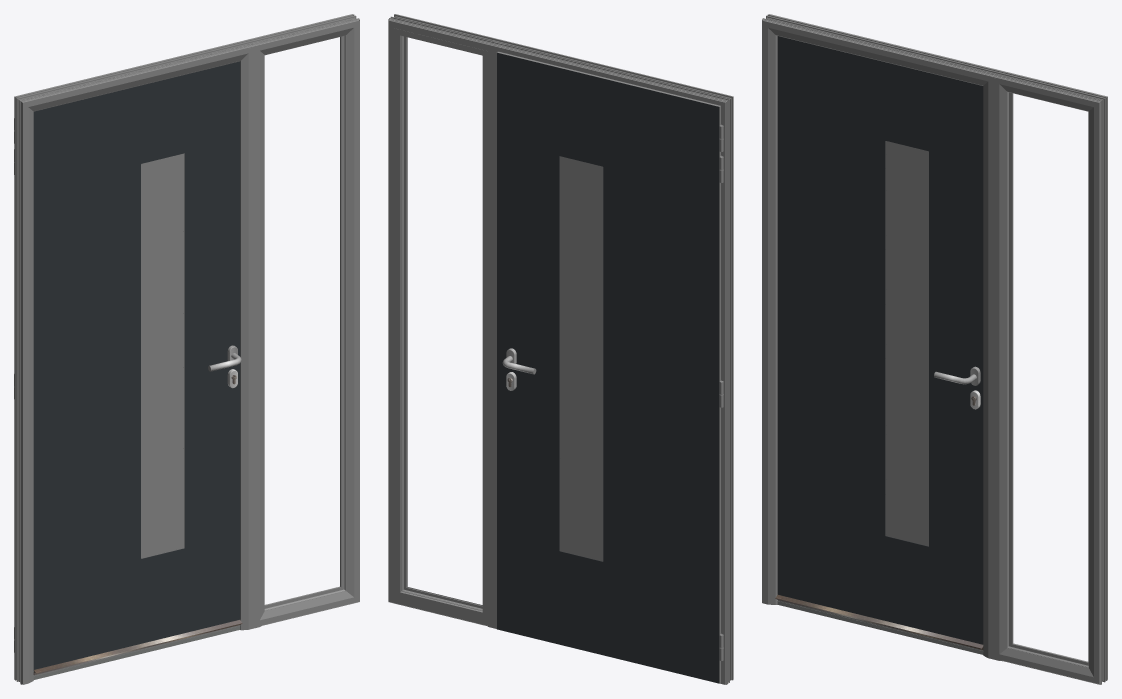
3 renders of one model, left to right at view 1: azimuth 30°, elevation 25°; view 2: azimuth 150°, elevation 25°; view 3: azimuth 330°, elevation 25°, orthographic.
Visible parts, largest first — view 1: bloco_112, Rectangle002, Vidro Porta, Line004, Object, Object001, Line005, Rectangle005, Rectangle003; view 2: bloco_112, Vidro Porta, Rectangle002, Rectangle003, Line004, Object001, Rectangle004, Object; view 3: bloco_112, Rectangle002, Vidro Porta, Line004, Object001, Object, Line005, Rectangle003, Rectangle005.
Part boxes in pixels (x1,y1,x2,y2): bloco_112: (33,61,240,671); Rectangle002: (14,14,359,684); Vidro Porta: (141,153,184,558); Line004: (240,46,264,630); Object: (33,35,346,680); Object001: (264,36,344,608); Line005: (33,620,242,674); Rectangle005: (33,625,240,679); Rectangle003: (264,37,340,605); bloco_112: (497,52,719,683); Vidro Porta: (559,156,603,561); Rectangle002: (388,14,733,684); Rectangle003: (394,28,487,619); Line004: (488,41,504,628); Object001: (401,36,482,610); Rectangle004: (496,51,720,683); Object: (404,36,482,608); bloco_112: (777,36,983,644); Rectangle002: (762,14,1107,684); Vidro Porta: (885,141,928,546); Line004: (983,77,1007,661); Object001: (1007,92,1088,665); Object: (776,35,1088,667); Line005: (775,595,983,649); Rectangle003: (1012,93,1087,662); Rectangle005: (777,600,983,654).
Bounding box in the file's own units: 1307 × 2150 × 192.
Materials: 7 (4 with a texture image).
